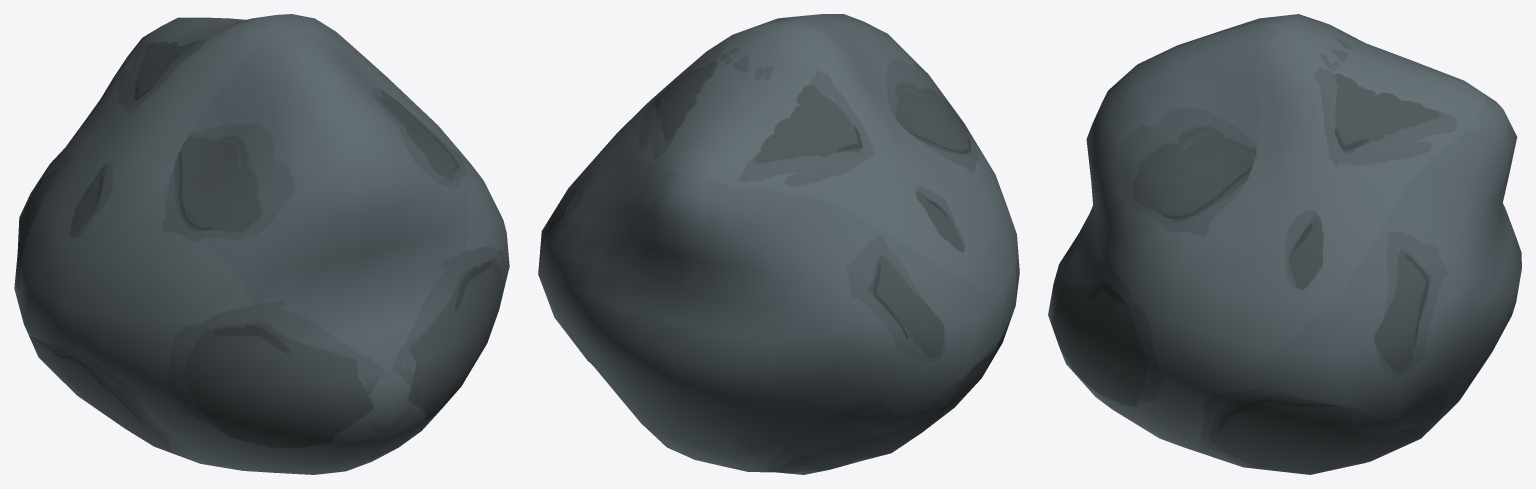
File: meter2.fbx
The picture shows the model from 3 angles, left to right: view 1: azimuth 30°, elevation 25°; view 2: azimuth 150°, elevation 25°; view 3: azimuth 270°, elevation 25°; orthographic projection. The views are drawn at different scales.
Parts seen in each view (by area): view 1: meteor_GEO2; view 2: meteor_GEO2; view 3: meteor_GEO2.
Part boxes in pixels (x1,y1,x2,y2): meteor_GEO2: (14, 14, 509, 474); meteor_GEO2: (538, 14, 1019, 474); meteor_GEO2: (1048, 14, 1521, 474).
Size of the model in its own units: 2.18 by 2.06 by 2.09.
1 material, 1 textured.
